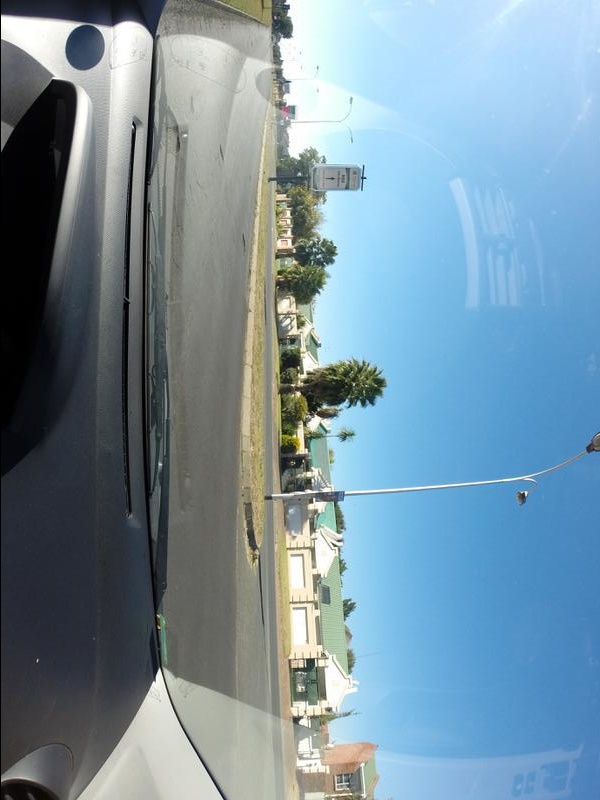pothole: (188, 90, 198, 119), (240, 232, 248, 252), (217, 145, 222, 165)
